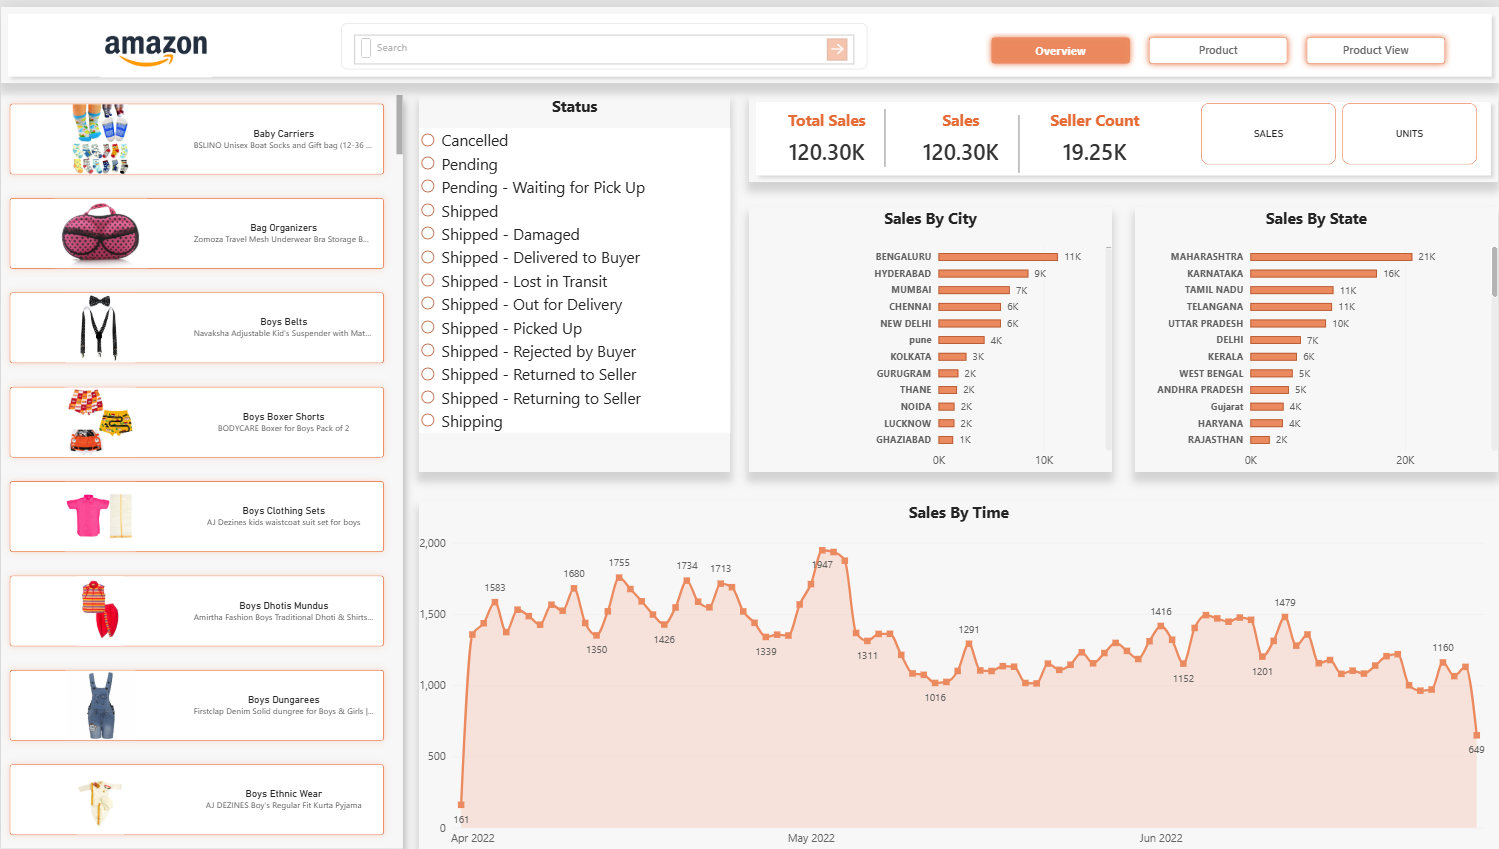

What the dashboard file says about the page in this screenshot:
{"tool":"powerbi","page":{"name":"Overview","canvas":[1920,1080],"ordinal":0},"visuals":[{"type":"advancedSlicerVisual","fields":{"Values":["amazon-fashion - YT.Category"]},"box":[0,114,515.3,966.8],"z":0},{"type":"shape","box":[960,114,960,111.7],"z":0,"group":"g1"},{"type":"shape","box":[0,0,1920,97.9],"z":1000},{"type":"image","box":[0,9.1,396.8,79.8],"z":2000},{"type":"pageNavigator","box":[1261,29.6,600,50],"z":3000},{"type":"textSlicer","fields":{"Values":["amazon-fashion - YT.Category"]},"box":[435.5,20.5,675,59.3],"z":4000},{"type":"listSlicer","fields":{"Values":["Amazon.Status"]},"box":[535.9,114,399,483.4],"z":5000},{"type":"group","id":"g1","title":"Group 1","box":[960,114,960,111.7],"z":6000},{"type":"advancedSlicerVisual","fields":{"Values":["Sale_Option.Name"]},"box":[1539.2,125.4,355.7,79.8],"z":7000,"group":"g1"},{"type":"clusteredBarChart","title":"Sales By City","fields":{"Category":["Amazon.ship-city"],"Y":["Amazon.Filter_Sale"]},"box":[960,257.7,465.2,339.8],"z":7000},{"type":"clusteredBarChart","title":"Sales By State","fields":{"Category":["Amazon.ship-state"],"Y":["Amazon.Filter_Sale"]},"box":[1454.8,257.7,465.2,339.8],"z":8000},{"type":"lineChart","title":"Sales By Time","fields":{"Category":["Amazon.Date.Variation.Date Hierarchy.Year","Amazon.Date.Variation.Date Hierarchy.Month","Amazon.Date.Variation.Date Hierarchy.Day"],"Y":["Amazon.Filter_Sale"]},"box":[535.9,633.9,1384.1,446.9],"z":9000},{"type":"cardVisual","title":"Total Sales","fields":{"Data":["Amazon.All_Overall_Sale"]},"box":[981.7,130.4,153.3,80.1],"z":10000},{"type":"cardVisual","title":"Sales","fields":{"Data":["Amazon.Filter_Sale"]},"box":[1153.4,130.4,153.3,80.1],"z":11000},{"type":"cardVisual","title":"Seller Count","fields":{"Data":["Amazon.Seller_Count"]},"box":[1325,130.4,153.3,80.1],"z":12000},{"type":"shape","box":[1098.5,131.3,71.6,74],"z":13000},{"type":"shape","box":[1270.4,138.5,71.6,74],"z":14000}]}

Visuals, with their boxes in screenshot pixels (x1, y1, x2, y2), scaled from the page's 1920x1080 canvas onto the 1499x849 screenshot:
advancedSlicerVisual - amazon-fashion - YT.Category: <bbox>0, 90, 402, 848</bbox>
shape: <bbox>750, 90, 1498, 177</bbox>
shape: <bbox>0, 0, 1498, 77</bbox>
image: <bbox>0, 7, 310, 70</bbox>
pageNavigator: <bbox>984, 23, 1453, 63</bbox>
textSlicer - amazon-fashion - YT.Category: <bbox>340, 16, 867, 63</bbox>
listSlicer - Amazon.Status: <bbox>418, 90, 730, 470</bbox>
"Group 1" group: <bbox>750, 90, 1498, 177</bbox>
advancedSlicerVisual - Sale_Option.Name: <bbox>1202, 99, 1479, 161</bbox>
"Sales By City" clusteredBarChart: <bbox>750, 203, 1113, 470</bbox>
"Sales By State" clusteredBarChart: <bbox>1136, 203, 1498, 470</bbox>
"Sales By Time" lineChart: <bbox>418, 498, 1498, 848</bbox>
"Total Sales" cardVisual: <bbox>766, 103, 886, 165</bbox>
"Sales" cardVisual: <bbox>900, 103, 1020, 165</bbox>
"Seller Count" cardVisual: <bbox>1034, 103, 1154, 165</bbox>
shape: <bbox>858, 103, 914, 161</bbox>
shape: <bbox>992, 109, 1048, 167</bbox>
